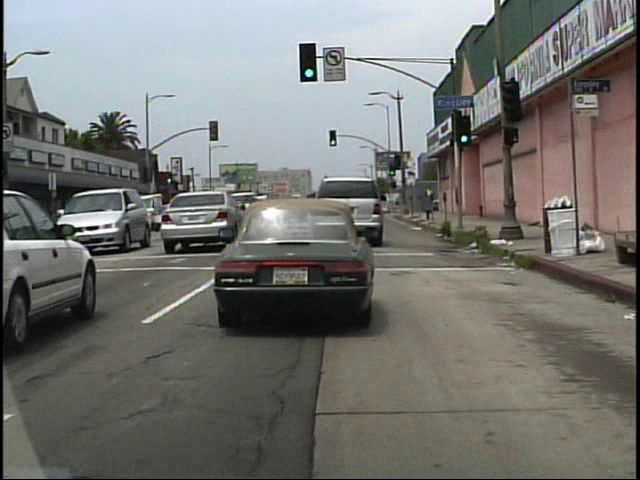person: (422, 183, 436, 212)
